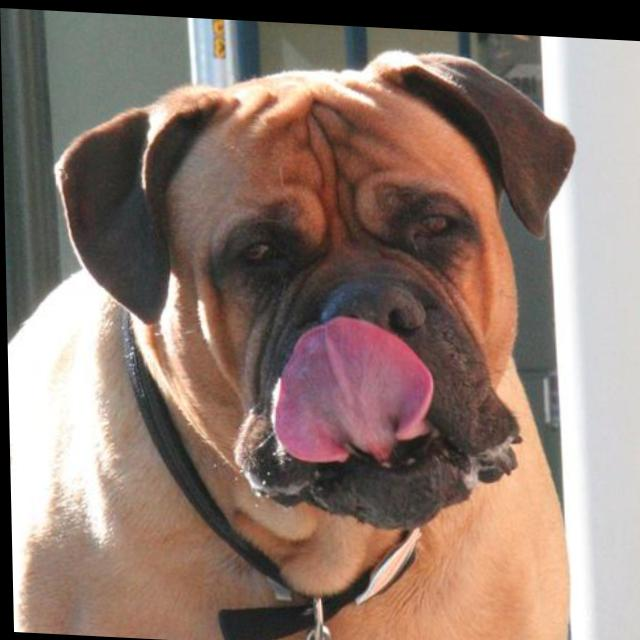bullmastiff: (1, 28, 586, 640)
